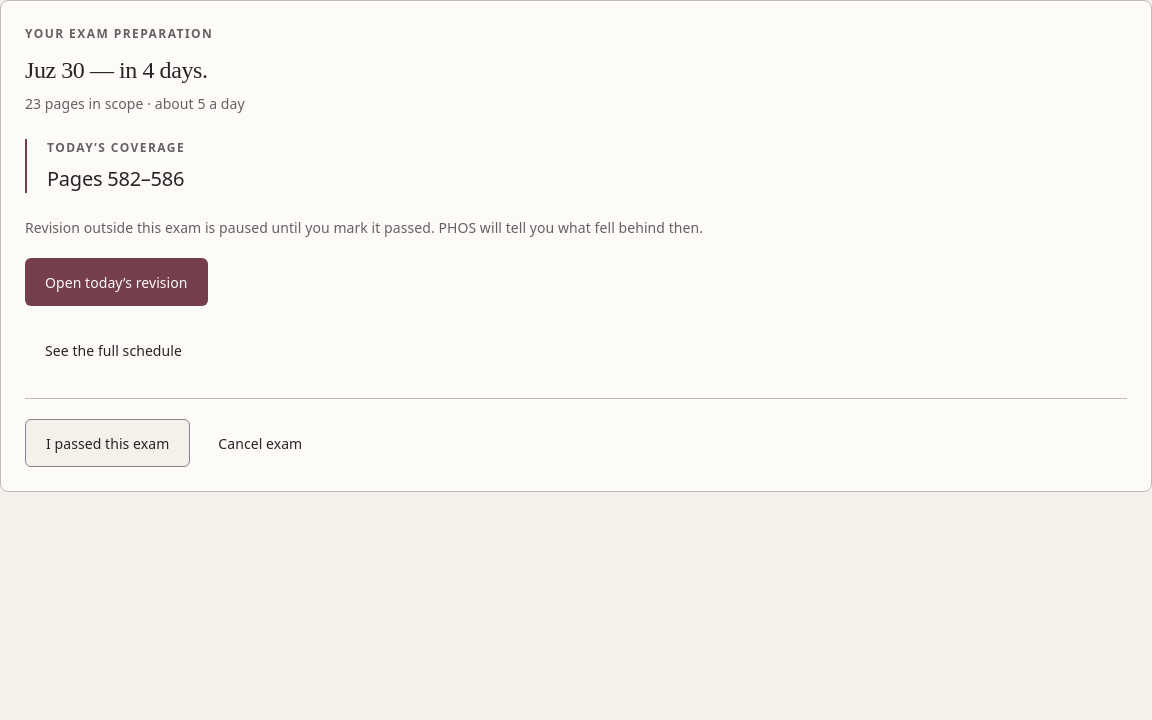
the run-up card › keeps the full schedule available but out of the way
Expected: the text "06/08/2026" is not shown
Click the button "See the full schedule" at (113, 350), box [25,326,202,374]
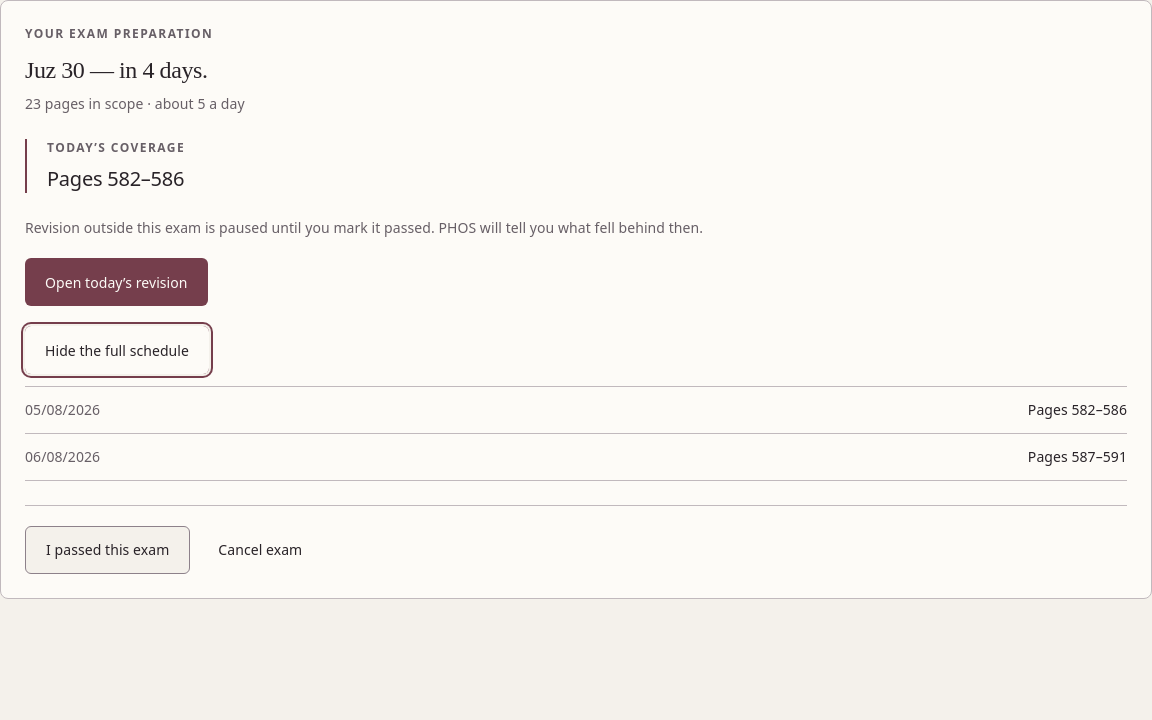
Result: the text "06/08/2026" is shown at [25,446,100,468]
